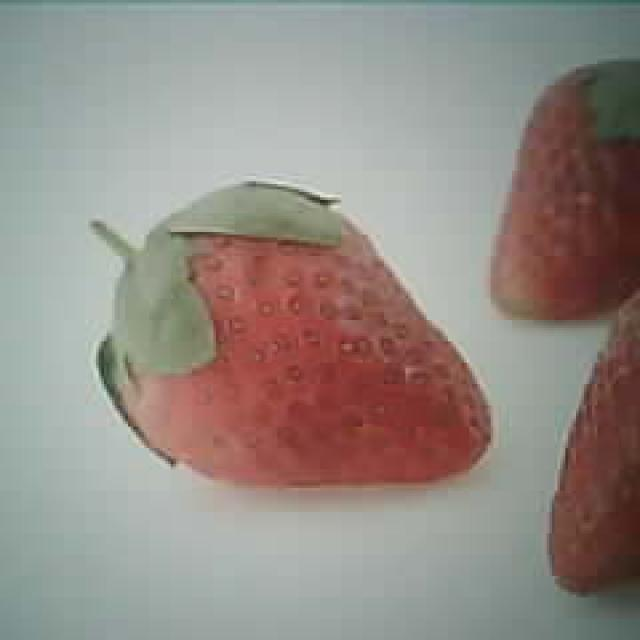strawberry: (112, 184, 492, 483), (489, 61, 640, 318)
